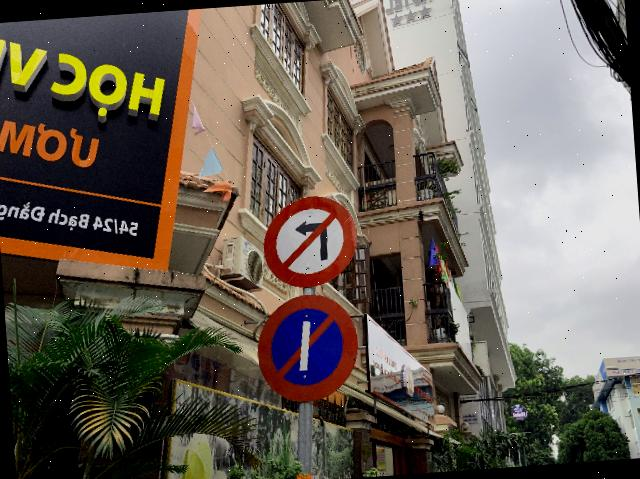cam-do-xe-ngay-le: (252, 289, 362, 405)
cam-re-phai: (260, 192, 360, 290)
